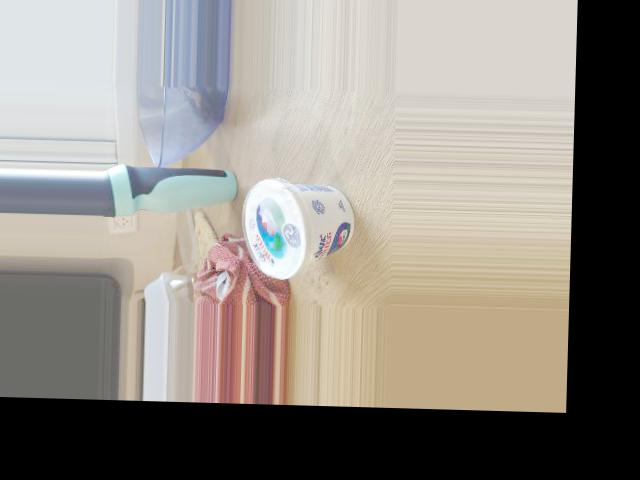cotage: (233, 172, 361, 265)
